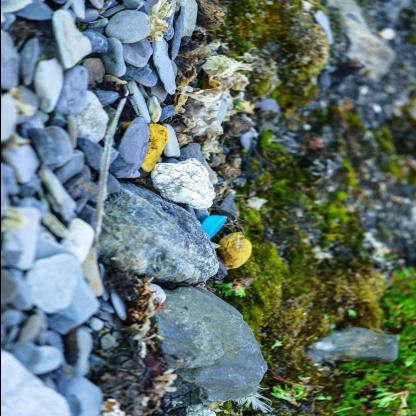plastik: (198, 214, 227, 240)
